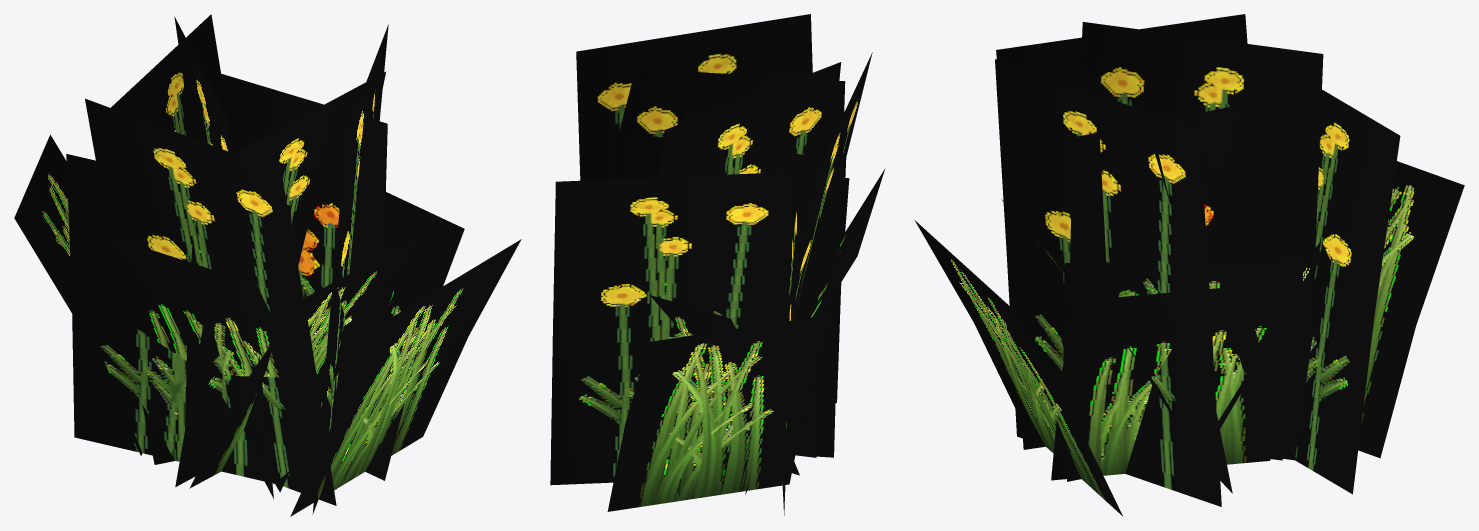
The model's file is Grass_Wildflower_B.fbx.
3 renders of one model, left to right at view 1: azimuth 30°, elevation 25°; view 2: azimuth 150°, elevation 25°; view 3: azimuth 270°, elevation 25°, orthographic. The views are drawn at different scales.
Parts seen in each view (by area): view 1: Grass_Wildflower_B_LOD0; view 2: Grass_Wildflower_B_LOD0; view 3: Grass_Wildflower_B_LOD0.
Part boxes in pixels (left/top/right/bottom): Grass_Wildflower_B_LOD0: left=14, top=14, right=521, bottom=516; Grass_Wildflower_B_LOD0: left=550, top=14, right=885, bottom=515; Grass_Wildflower_B_LOD0: left=914, top=14, right=1464, bottom=516.
Size of what is drawn, in the model's own units: 0.5718 by 0.5829 by 0.7476.
